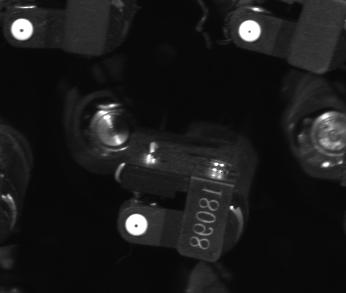fiber: (122, 209, 154, 240), (235, 17, 265, 46), (8, 15, 36, 44)
